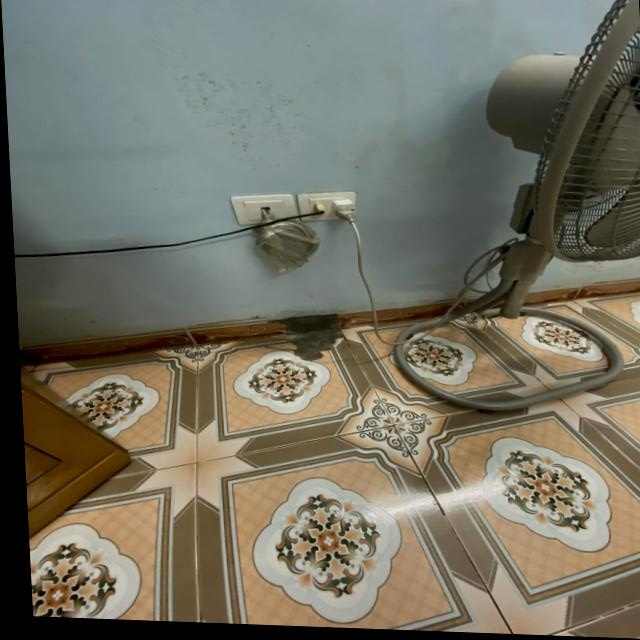outlet: (230, 191, 297, 228), (297, 189, 359, 224)
